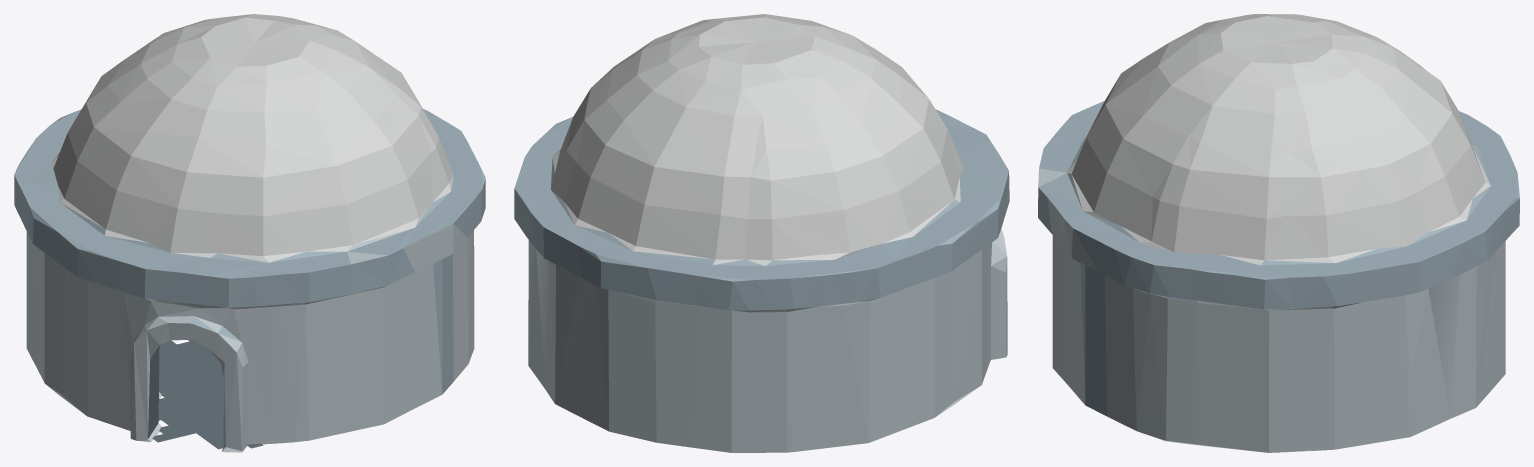
3 views of the same model, side by side, from view 1: azimuth 30°, elevation 25°; view 2: azimuth 150°, elevation 25°; view 3: azimuth 270°, elevation 25° (orthographic). The views are drawn at different scales.
Parts seen in each view (by area): view 1: geometry_0; view 2: geometry_0; view 3: geometry_0.
Part boxes in pixels (left/top/right/bottom): geometry_0: left=14, top=14, right=485, bottom=452; geometry_0: left=514, top=14, right=1009, bottom=452; geometry_0: left=1038, top=14, right=1519, bottom=452.
Size of the model in its own units: 0.8359 by 0.6037 by 0.83.
